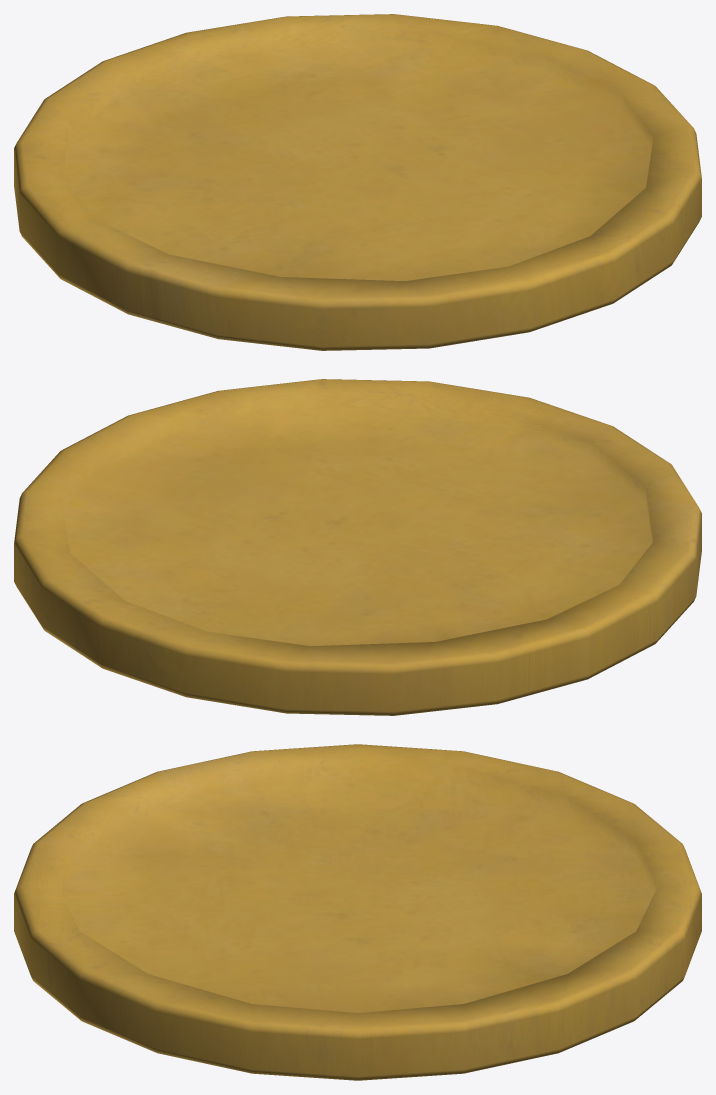
Rendered from Ingredients_Moeny.fbx.
The picture shows the model from 3 angles, top to bottom: view 1: azimuth 30°, elevation 25°; view 2: azimuth 150°, elevation 25°; view 3: azimuth 270°, elevation 25°; orthographic projection.
Parts seen in each view (by area): view 1: Money; view 2: Money; view 3: Money.
Boxes of the visible parts, x1,y1,x2,y2 form: Money: [14, 14, 701, 350]; Money: [14, 379, 701, 715]; Money: [14, 744, 701, 1080].
Size of the model in its own units: 3.01 by 0.2621 by 3.01.
1 material, 1 textured.
